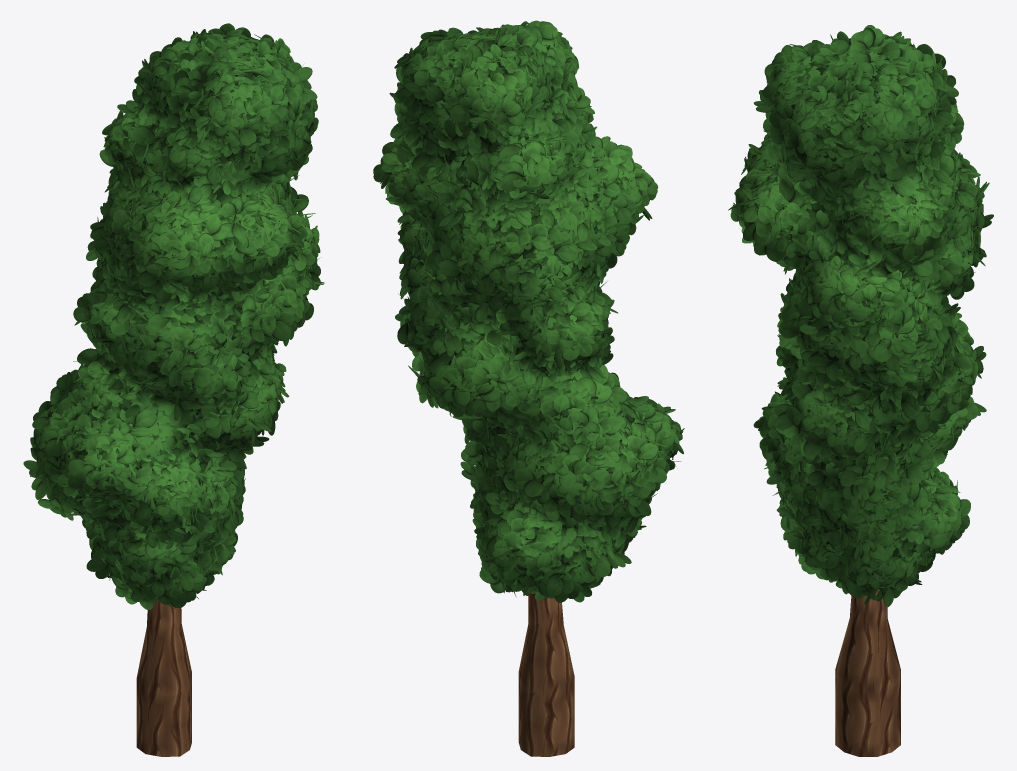
Rendered from cypress_v2.gltf.
The picture shows the model from 3 angles, left to right: view 1: azimuth 30°, elevation 25°; view 2: azimuth 150°, elevation 25°; view 3: azimuth 270°, elevation 25°; orthographic projection. The views are drawn at different scales.
Parts seen in each view (by area): view 1: cypress_v2_leaves_LOD0, cypress_v2_volume_LOD0, cypress_v2_trunk_LOD0; view 2: cypress_v2_leaves_LOD0, cypress_v2_volume_LOD0, cypress_v2_trunk_LOD0; view 3: cypress_v2_leaves_LOD0, cypress_v2_volume_LOD0, cypress_v2_trunk_LOD0.
Boxes of the visible parts, x1=… form: cypress_v2_leaves_LOD0: x1=23, y1=23, x2=324, y2=609; cypress_v2_volume_LOD0: x1=35, y1=37, x2=313, y2=587; cypress_v2_trunk_LOD0: x1=136, y1=600, x2=191, y2=756; cypress_v2_leaves_LOD0: x1=373, y1=20, x2=684, y2=602; cypress_v2_volume_LOD0: x1=389, y1=33, x2=674, y2=582; cypress_v2_trunk_LOD0: x1=518, y1=592, x2=574, y2=756; cypress_v2_leaves_LOD0: x1=728, y1=25, x2=993, y2=606; cypress_v2_volume_LOD0: x1=738, y1=45, x2=979, y2=588; cypress_v2_trunk_LOD0: x1=835, y1=589, x2=900, y2=756.
Size of what is drawn, in the model's own units: 5.11 by 12.06 by 4.12.
3 materials, 3 textured.
